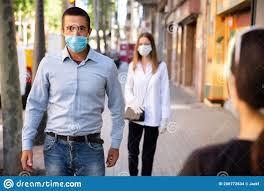with-mask: (58, 7, 99, 56), (132, 31, 158, 60)
